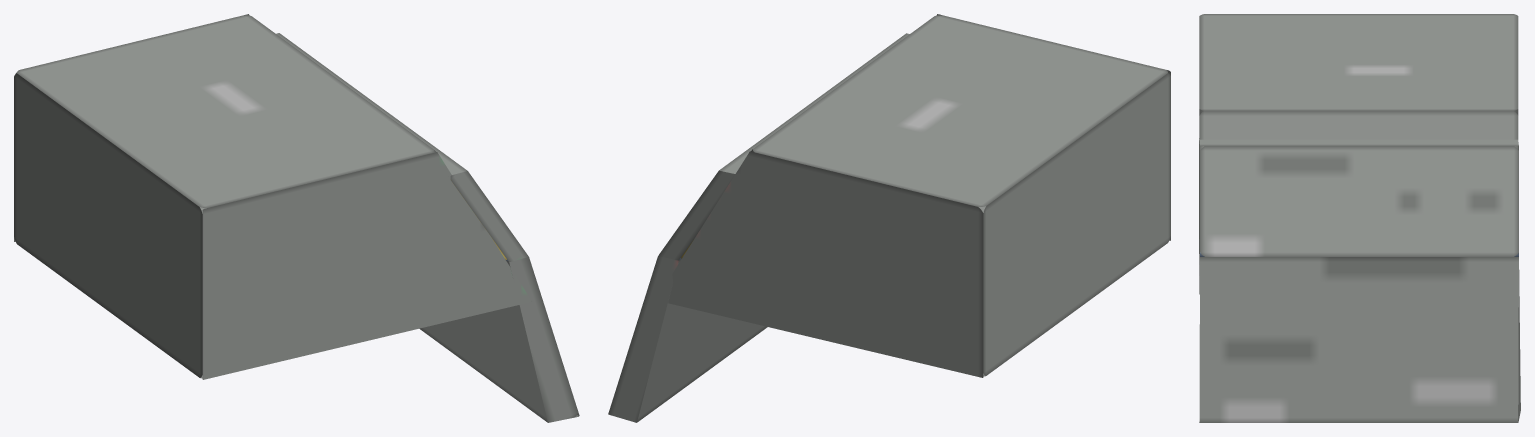
File: df4d_roof_a.obj
3 views of the same model, side by side, from view 1: azimuth 30°, elevation 25°; view 2: azimuth 150°, elevation 25°; view 3: azimuth 270°, elevation 25° (orthographic). The views are drawn at different scales.
Visible parts, largest first — view 1: df4d_roof_a; view 2: df4d_roof_a; view 3: df4d_roof_a.
Part boxes in pixels (left/top/right/bottom): df4d_roof_a: left=14, top=14, right=579, bottom=422; df4d_roof_a: left=608, top=14, right=1170, bottom=422; df4d_roof_a: left=1199, top=14, right=1520, bottom=422.
Size of the model in its own units: 1.16 by 0.8763 by 1.01.
